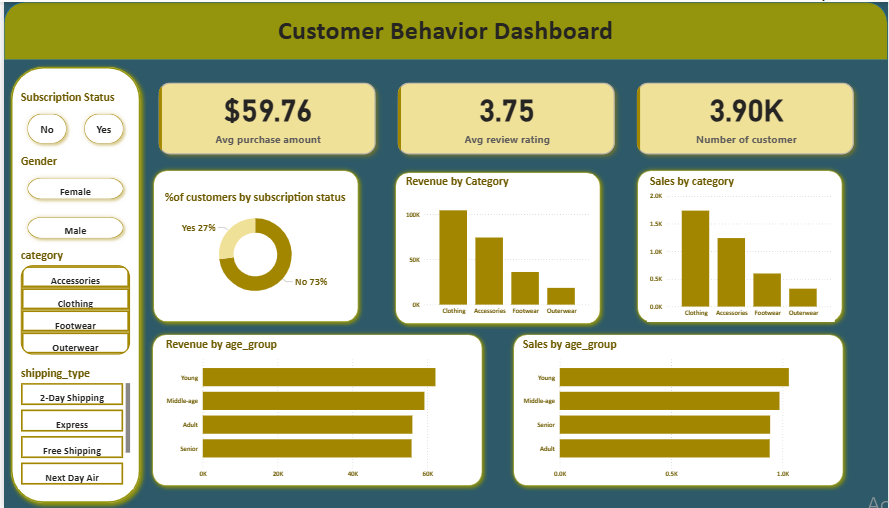

What the dashboard file says about the page in this screenshot:
{"tool":"powerbi","page":{"name":"Page 1","canvas":[1600,920],"ordinal":0},"visuals":[{"type":"cardVisual","fields":{"Data":["customer_behavior customer.Avd purchase amount","customer_behavior customer.Avg review rating","customer_behavior customer.Number of customer"]},"box":[259.6,125.5,1302.1,172.3],"z":0},{"type":"shape","box":[0,0,1600,105],"z":1000},{"type":"textbox","box":[159.6,16.8,1280.8,88.2],"z":2000},{"type":"shape","box":[1138.1,296.1,390.6,294],"z":3000},{"type":"shape","box":[699.4,298.2,390.6,294],"z":4000},{"type":"shape","box":[260.4,296.1,390.6,294],"z":5000},{"type":"donutChart","title":"%of customers by subscription status","fields":{"Y":["CountNonNull(customer_behavior customer.customer_id)"],"Category":["customer_behavior customer.subscription_status"]},"box":[285.6,340.2,338.1,207.9],"z":6000},{"type":"clusteredColumnChart","title":"Revenue by Category","fields":{"Category":["customer_behavior customer.category"],"Y":["Sum(customer_behavior customer.purchase_amount($))"]},"box":[722.3,310.8,344.4,264.6],"z":7000},{"type":"columnChart","title":"Sales by category","fields":{"Category":["customer_behavior customer.category"],"Y":["CountNonNull(customer_behavior customer.customer_id)"]},"box":[1163.8,310.6,340.4,268.1],"z":8000},{"type":"shape","box":[0,104.3,259.6,814.9],"z":9000},{"type":"advancedSlicerVisual","title":"Subscription Status","fields":{"Values":["customer_behavior customer.subscription_status"]},"box":[25.5,159.6,208.5,114.9],"z":10000},{"type":"advancedSlicerVisual","title":"Gender","fields":{"Values":["customer_behavior customer.gender"]},"box":[25.5,274.5,208.5,170.2],"z":11000},{"type":"advancedSlicerVisual","fields":{"Values":["customer_behavior customer.category"]},"box":[25.5,444.7,208.5,200],"z":12000},{"type":"advancedSlicerVisual","fields":{"Values":["customer_behavior customer.shipping_type"]},"box":[25.5,659.6,208.5,223.4],"z":13000},{"type":"shape","box":[912.8,591.5,617,293.6],"z":14000},{"type":"shape","box":[259.6,591.5,617,293.6],"z":15000},{"type":"clusteredBarChart","title":"Revenue by age_group","fields":{"Y":["Sum(customer_behavior customer.purchase_amount($))"],"Category":["customer_behavior customer.age_group"]},"box":[287.2,606.4,561.7,263.8],"z":16000},{"type":"clusteredBarChart","title":"Sales by age_group","fields":{"Category":["customer_behavior customer.age_group"],"Y":["CountNonNull(customer_behavior customer.customer_id)"]},"box":[934,606.4,572.3,263.8],"z":17000}]}

Visuals, with their boxes in screenshot pixels (x1, y1, x2, y2), scaled from the page's 1600x920 canvas onto the 889x508 screenshot:
cardVisual - customer_behavior customer.Avd purchase amount x customer_behavior customer.Avg review rating: <region>144, 69, 868, 164</region>
shape: <region>0, 0, 888, 58</region>
textbox: <region>89, 9, 800, 58</region>
shape: <region>632, 163, 849, 326</region>
shape: <region>389, 165, 606, 327</region>
shape: <region>145, 163, 362, 326</region>
"%of customers by subscription status" donutChart: <region>159, 188, 347, 303</region>
"Revenue by Category" clusteredColumnChart: <region>401, 172, 593, 318</region>
"Sales by category" columnChart: <region>647, 172, 836, 320</region>
shape: <region>0, 58, 144, 507</region>
"Subscription Status" advancedSlicerVisual: <region>14, 88, 130, 152</region>
"Gender" advancedSlicerVisual: <region>14, 152, 130, 246</region>
advancedSlicerVisual - customer_behavior customer.category: <region>14, 246, 130, 356</region>
advancedSlicerVisual - customer_behavior customer.shipping_type: <region>14, 364, 130, 488</region>
shape: <region>507, 327, 850, 489</region>
shape: <region>144, 327, 487, 489</region>
"Revenue by age_group" clusteredBarChart: <region>160, 335, 472, 481</region>
"Sales by age_group" clusteredBarChart: <region>519, 335, 837, 481</region>
